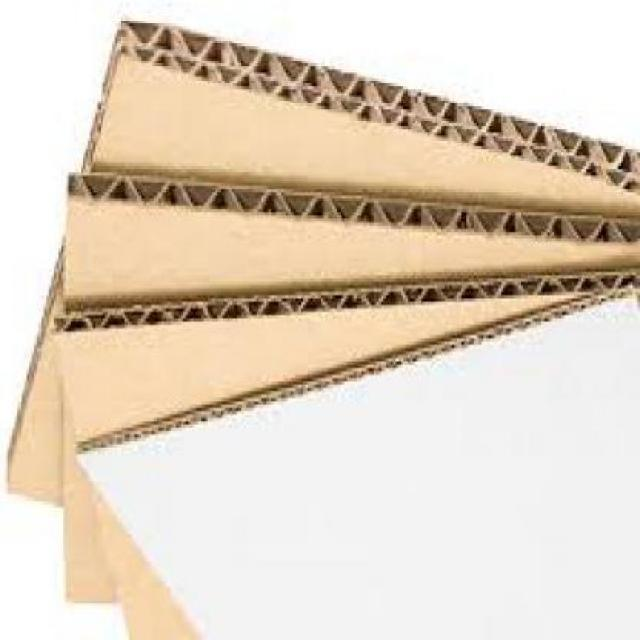box: (10, 23, 639, 508), (54, 175, 638, 611), (80, 288, 638, 639)
